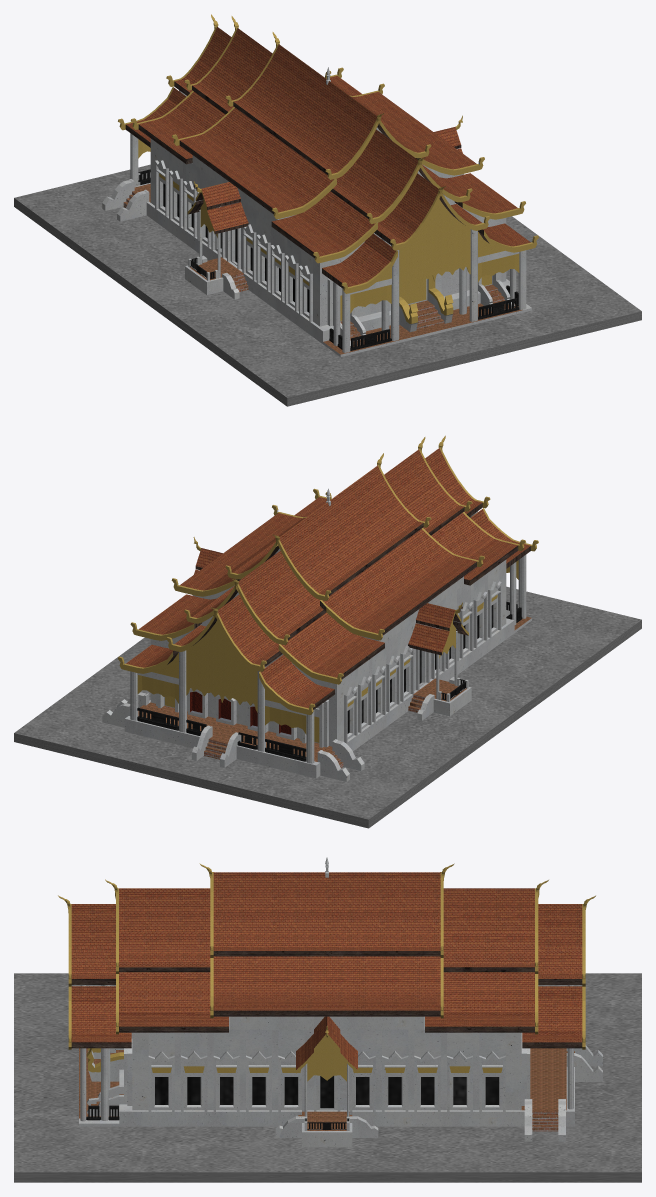
File: grand sanctuary.glb
3 renders of one model, top to bottom at view 1: azimuth 30°, elevation 25°; view 2: azimuth 150°, elevation 25°; view 3: azimuth 270°, elevation 25°, orthographic. The views are drawn at different scales.
Parts seen in each view (by area): view 1: part0, part2, part1, part5, part7, part4, part6, part3; view 2: part0, part2, part1, part5, part7, part4, part6, part3; view 3: part0, part1, part2, part7, part6, part5, part4, part3.
Boxes of the visible parts, box(x1,y1,x2,y2) form: part0: box(14, 164, 641, 406); part2: box(102, 14, 538, 357); part1: box(146, 127, 509, 343); part5: box(172, 83, 484, 219); part7: box(225, 32, 431, 179); part4: box(130, 67, 525, 263); part6: box(184, 16, 472, 223); part3: box(185, 115, 462, 299); part0: box(14, 586, 641, 828); part2: box(102, 435, 538, 781); part1: box(149, 548, 514, 751); part5: box(171, 505, 484, 640); part7: box(225, 453, 431, 600); part4: box(130, 488, 526, 684); part6: box(184, 437, 472, 645); part3: box(193, 537, 471, 720); part0: box(14, 973, 641, 1182); part1: box(116, 1016, 530, 1126); part2: box(58, 895, 602, 1141); part7: box(199, 857, 454, 957); part6: box(105, 879, 548, 973); part5: box(210, 956, 443, 1018); part4: box(116, 972, 538, 1034); part3: box(275, 1016, 378, 1147).
Bounding box in the file's own units: 1.4 × 0.7386 × 1.86.
11 materials, 11 textured.
